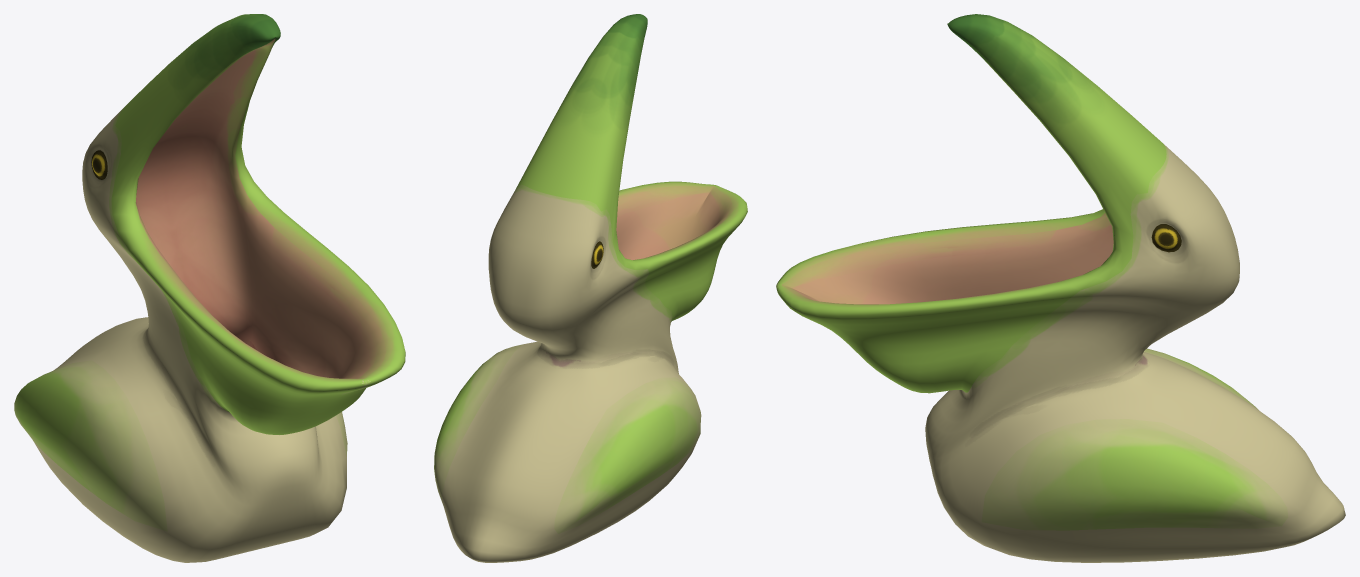
Rendered from bin_pelican.fbx.
3 renders of one model, left to right at view 1: azimuth 30°, elevation 25°; view 2: azimuth 150°, elevation 25°; view 3: azimuth 270°, elevation 25°, orthographic. The views are drawn at different scales.
Parts seen in each view (by area): view 1: pelican; view 2: pelican; view 3: pelican.
Part boxes in pixels (x1,y1,x2,y2): pelican: (14,14,405,562); pelican: (434,14,747,562); pelican: (776,14,1345,562).
Bounding box in the file's own units: 146 × 309 × 309.
1 material, 1 textured.
